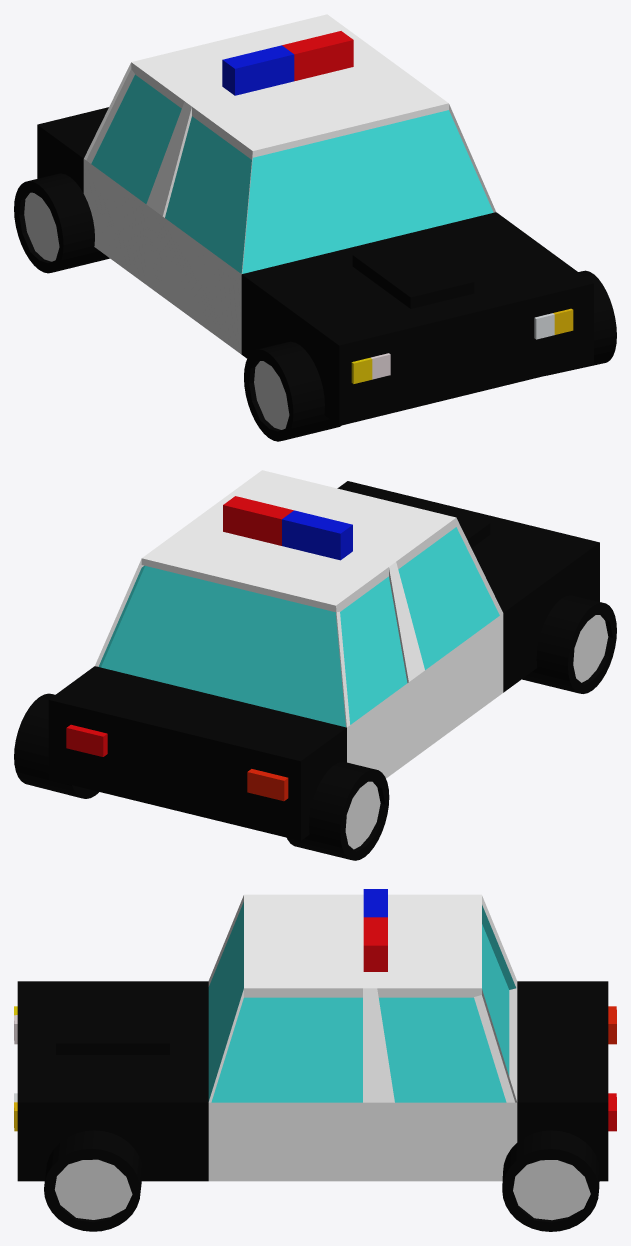
File: Police car .fbx
3 views of the same model, one above another, from view 1: azimuth 30°, elevation 25°; view 2: azimuth 150°, elevation 25°; view 3: azimuth 270°, elevation 25° (orthographic). The views are drawn at different scales.
Parts seen in each view (by area): view 1: Cube, Cylinder.005, Cylinder.007, Cube.005, Cylinder.001, Cube.001, Cube.002; view 2: Cube, Cylinder.007, Cylinder.005, Cylinder.003, Cube.003, Cube.004, Cube.005; view 3: Cube, Cylinder.003, Cylinder.001, Cube.005.
Boxes of the visible parts, box(x1,y1,x2,y2) form: Cube: box(37, 14, 593, 425); Cylinder.005: box(244, 341, 340, 441); Cylinder.007: box(14, 173, 109, 273); Cube.005: box(352, 239, 474, 308); Cylinder.001: box(545, 270, 616, 375); Cube.001: box(534, 308, 573, 339); Cube.002: box(351, 353, 390, 383); Cube: box(48, 470, 599, 840); Cylinder.007: box(287, 762, 389, 860); Cylinder.005: box(522, 595, 616, 693); Cylinder.003: box(14, 693, 98, 798); Cube.003: box(247, 769, 288, 801); Cube.004: box(66, 724, 107, 756); Cube.005: box(425, 508, 490, 547); Cube: box(17, 889, 608, 1181); Cylinder.003: box(502, 1130, 599, 1231); Cylinder.001: box(44, 1130, 142, 1231); Cube.005: box(56, 1013, 169, 1054).
Bounding box in the file's own units: 257 × 182 × 419.
